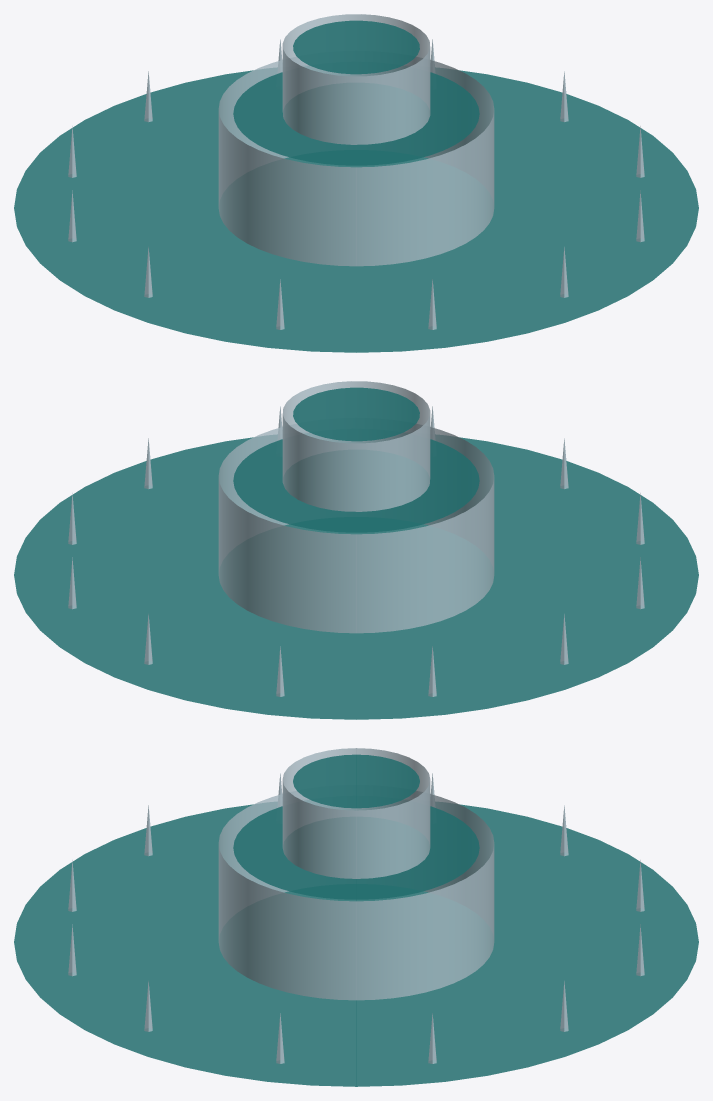
File: SM_Plaza_NoCol.fbx
3 renders of one model, top to bottom at view 1: azimuth 30°, elevation 25°; view 2: azimuth 150°, elevation 25°; view 3: azimuth 270°, elevation 25°, orthographic.
Visible parts, largest first — view 1: SM_Plaza_NoCol; view 2: SM_Plaza_NoCol; view 3: SM_Plaza_NoCol.
Boxes of the visible parts, x1=… form: SM_Plaza_NoCol: x1=14, y1=14, x2=698, y2=352; SM_Plaza_NoCol: x1=14, y1=381, x2=698, y2=719; SM_Plaza_NoCol: x1=14, y1=748, x2=698, y2=1086.
Bounding box in the file's own units: 22.41 × 5.88 × 22.41.
